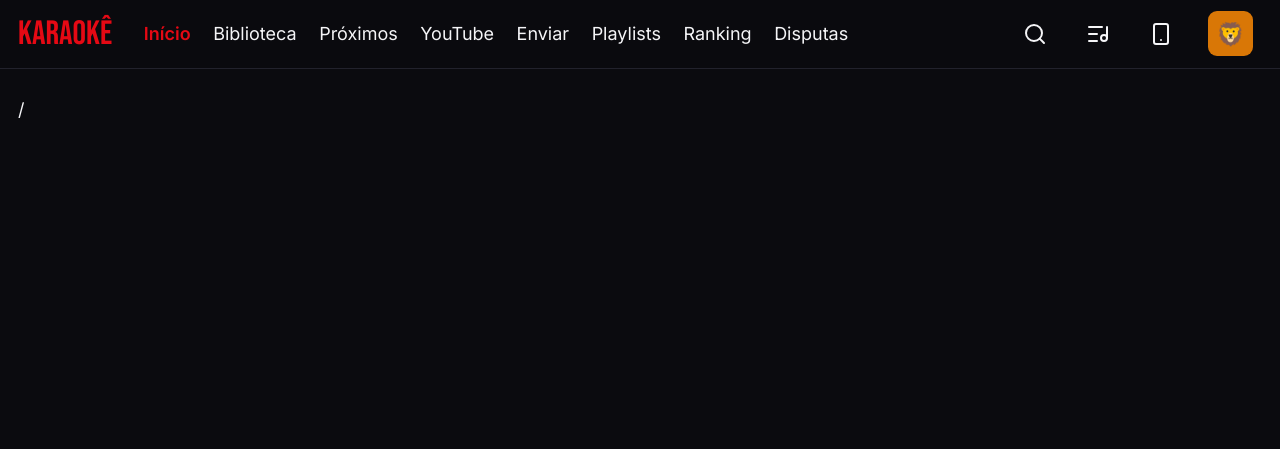
Test: StageLayout › opens the profile menu with the profile options and closes it with Escape
Click the button named "Menu do perfil Ana".
click(1230, 34)  # box [1199,9,1262,58]
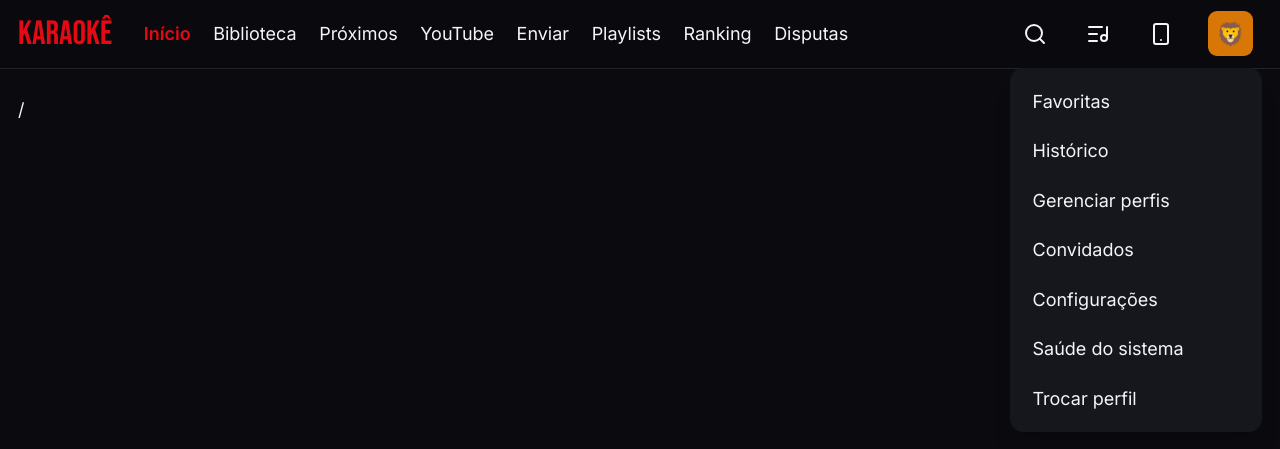
Check: the menu shows "Favoritas", box [1019,76,1253,126]
Check: the menu shows "Histórico", box [1019,126,1253,176]
Check: the menu shows "Gerenciar perfis", box [1019,176,1253,225]
Press Escape
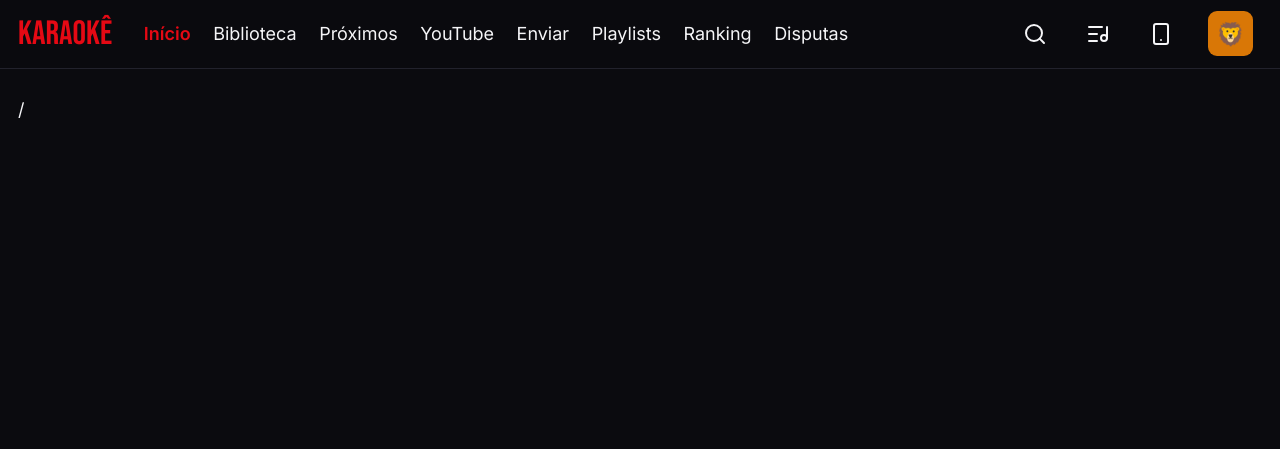
Check: the menu is gone
